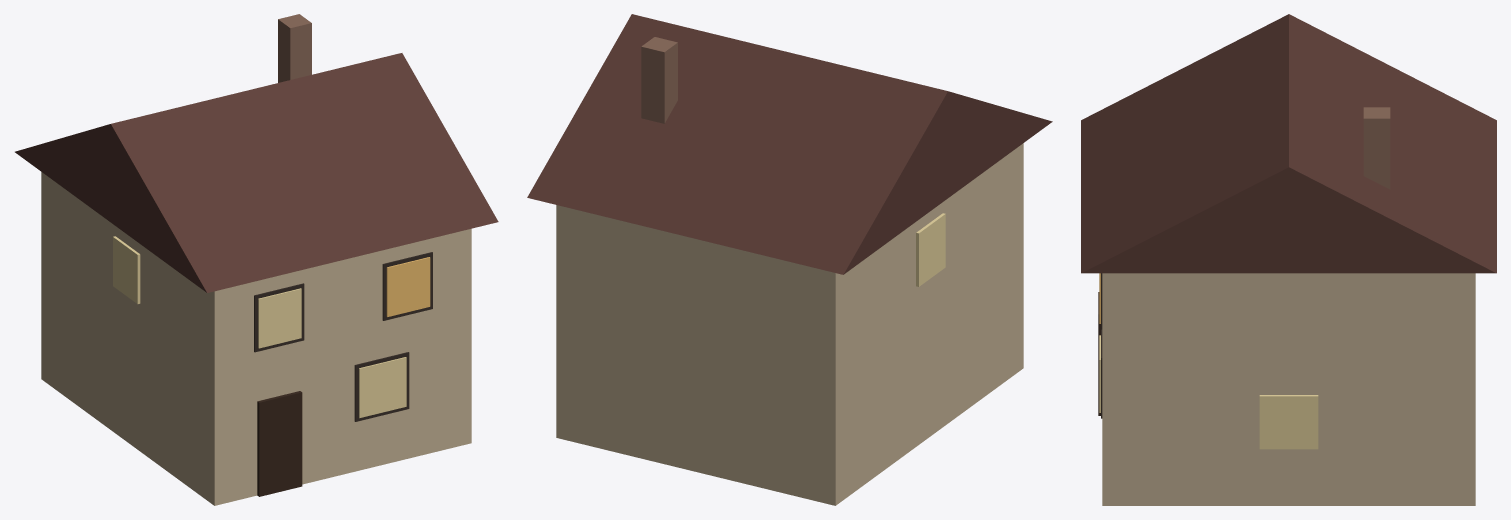
File: casa.obj
The picture shows the model from 3 angles, left to right: view 1: azimuth 30°, elevation 25°; view 2: azimuth 150°, elevation 25°; view 3: azimuth 270°, elevation 25°; orthographic projection. The views are drawn at different scales.
Visible parts, largest first — view 1: parte_00, parte_01, parte_05, parte_03, parte_04, parte_06, parte_02; view 2: parte_00, parte_01, parte_02, parte_05; view 3: parte_01, parte_00, parte_05, parte_02.
Part boxes in pixels (bbox=[...]): parte_00: bbox=[41, 172, 471, 505]; parte_01: bbox=[15, 53, 498, 292]; parte_05: bbox=[113, 236, 406, 418]; parte_03: bbox=[257, 391, 302, 496]; parte_04: bbox=[254, 252, 432, 421]; parte_06: bbox=[386, 257, 430, 316]; parte_02: bbox=[278, 14, 311, 82]; parte_00: bbox=[556, 143, 1023, 505]; parte_01: bbox=[527, 14, 1052, 274]; parte_02: bbox=[641, 37, 677, 123]; parte_05: bbox=[916, 213, 945, 286]; parte_01: bbox=[1081, 14, 1496, 273]; parte_00: bbox=[1102, 273, 1475, 505]; parte_05: bbox=[1099, 335, 1318, 449]; parte_02: bbox=[1363, 107, 1390, 189].
Bounding box in the file's own units: 6.8 × 7.6 × 7.8.
